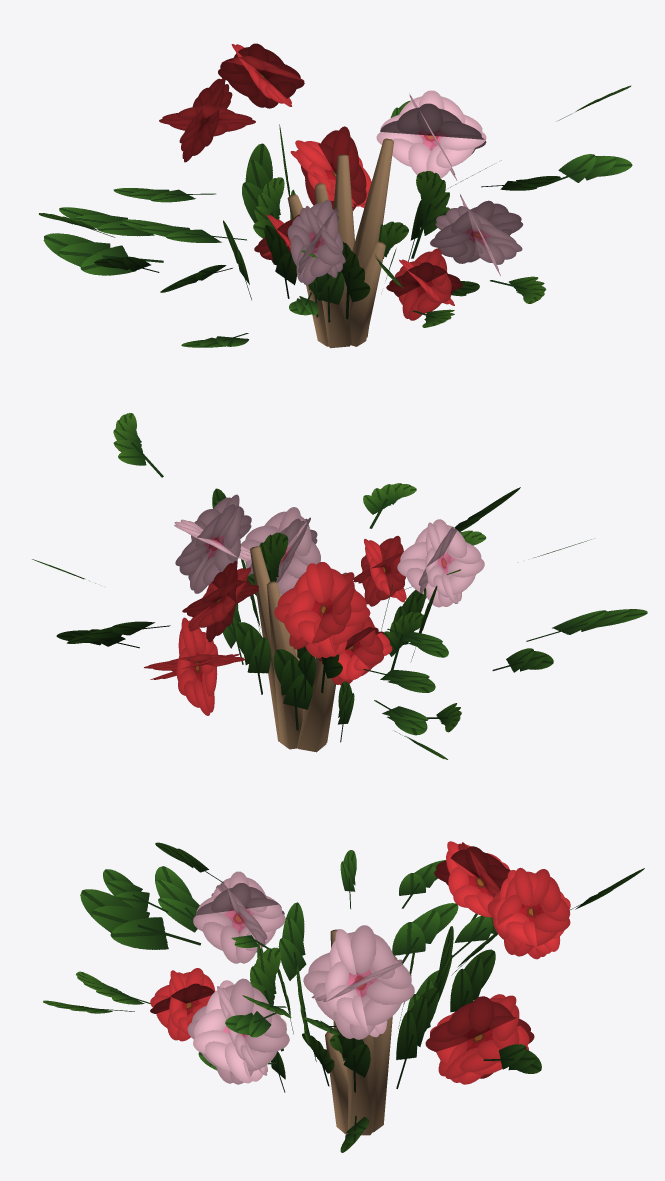
File: peony_red.glb
3 views of the same model, one above another, from view 1: azimuth 30°, elevation 25°; view 2: azimuth 150°, elevation 25°; view 3: azimuth 270°, elevation 25° (orthographic). The views are drawn at different scales.
Parts seen in each view (by area): view 1: peony_red; view 2: peony_red; view 3: peony_red.
Boxes of the visible parts, x1,y1,x2,y2 form: peony_red: [39, 43, 632, 348]; peony_red: [32, 413, 647, 759]; peony_red: [43, 841, 644, 1152].
Bounding box in the file's own units: 1.99 × 0.8705 × 1.9.
5 materials, 4 textured.
